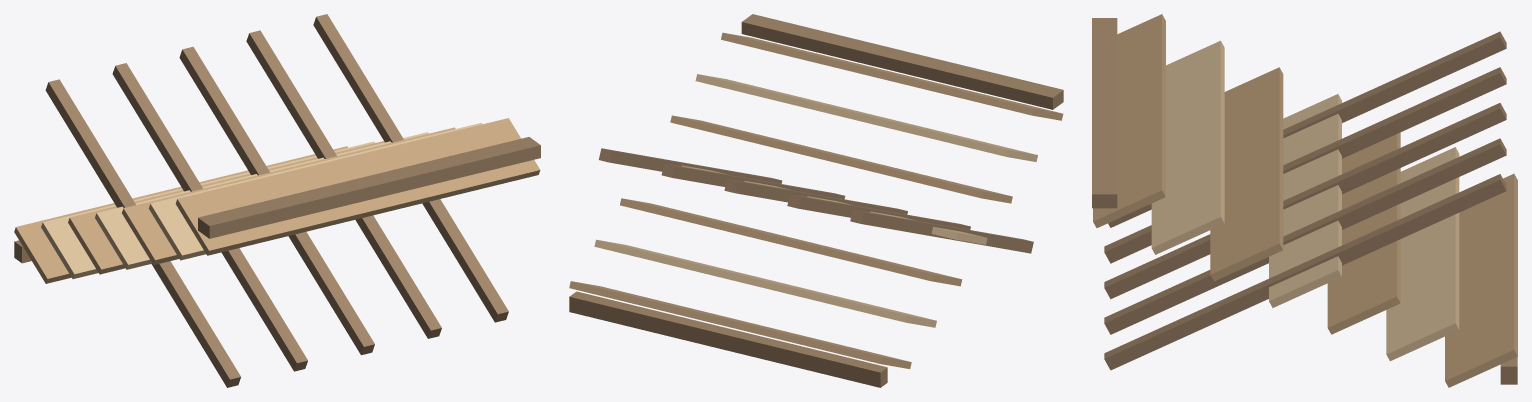
Rendered from roof.glb.
3 renders of one model, left to right at view 1: azimuth 30°, elevation 25°; view 2: azimuth 150°, elevation 25°; view 3: azimuth 270°, elevation 25°, orthographic. The views are drawn at different scales.
Visible parts, largest first — view 1: roof; view 2: roof; view 3: roof.
Boxes of the visible parts, bbox=[...] form: roof: bbox=[14, 14, 540, 387]; roof: bbox=[569, 14, 1063, 387]; roof: bbox=[1092, 14, 1517, 387].
Bounding box in the file's own units: 2.97 × 1.55 × 3.03.
